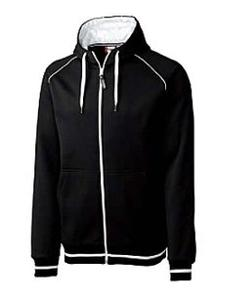C_jacket: (23, 9, 200, 283)
